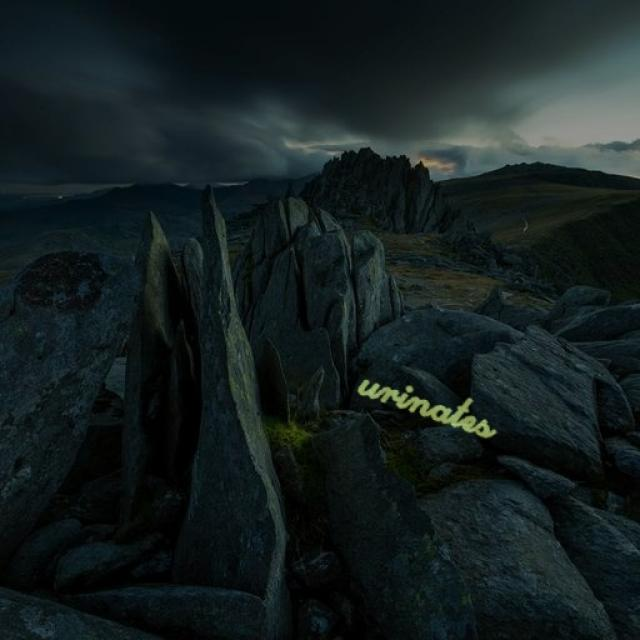watermark: (347, 360, 522, 446)
